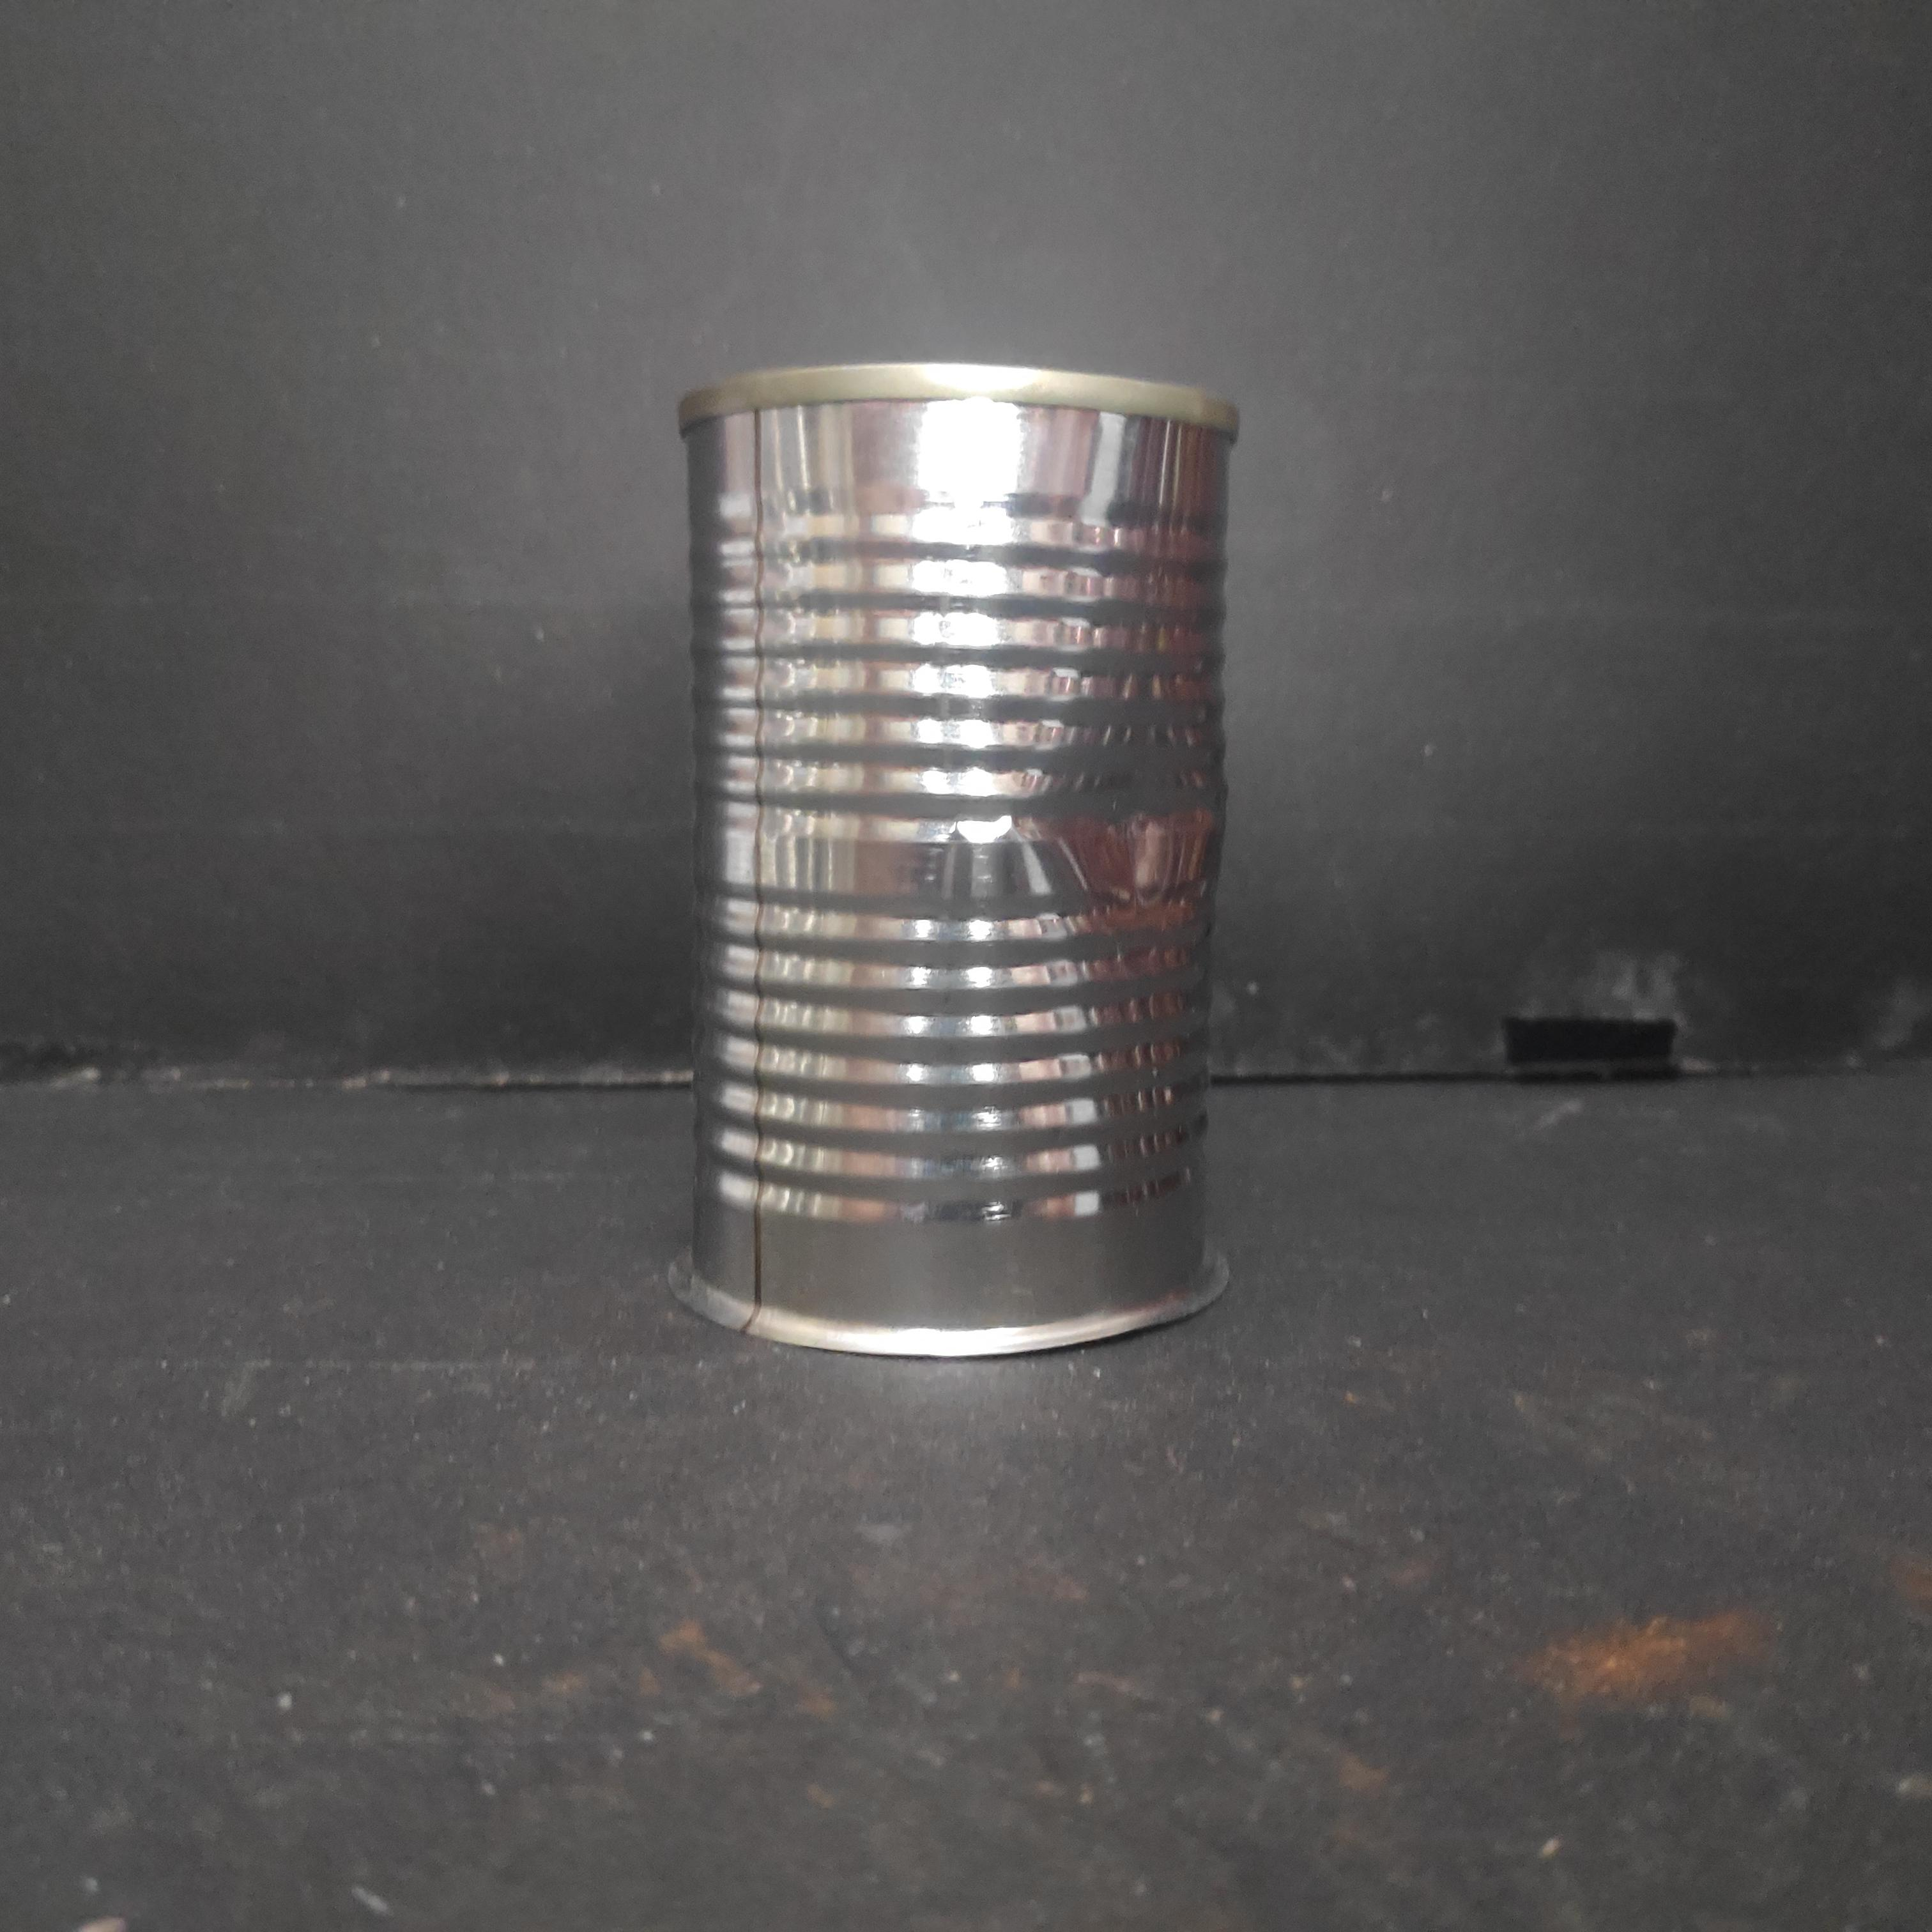Minor Defect: (665, 352, 1251, 1366)
